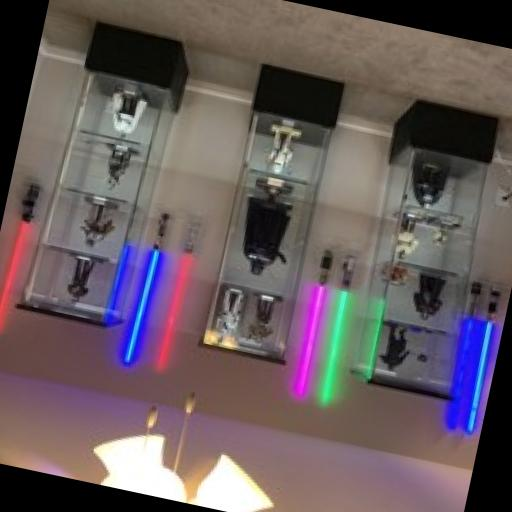lightsaber: (120, 204, 178, 368), (315, 254, 362, 410), (290, 248, 337, 400), (461, 283, 504, 438)
sith saber: (154, 208, 208, 372), (0, 180, 43, 341)
